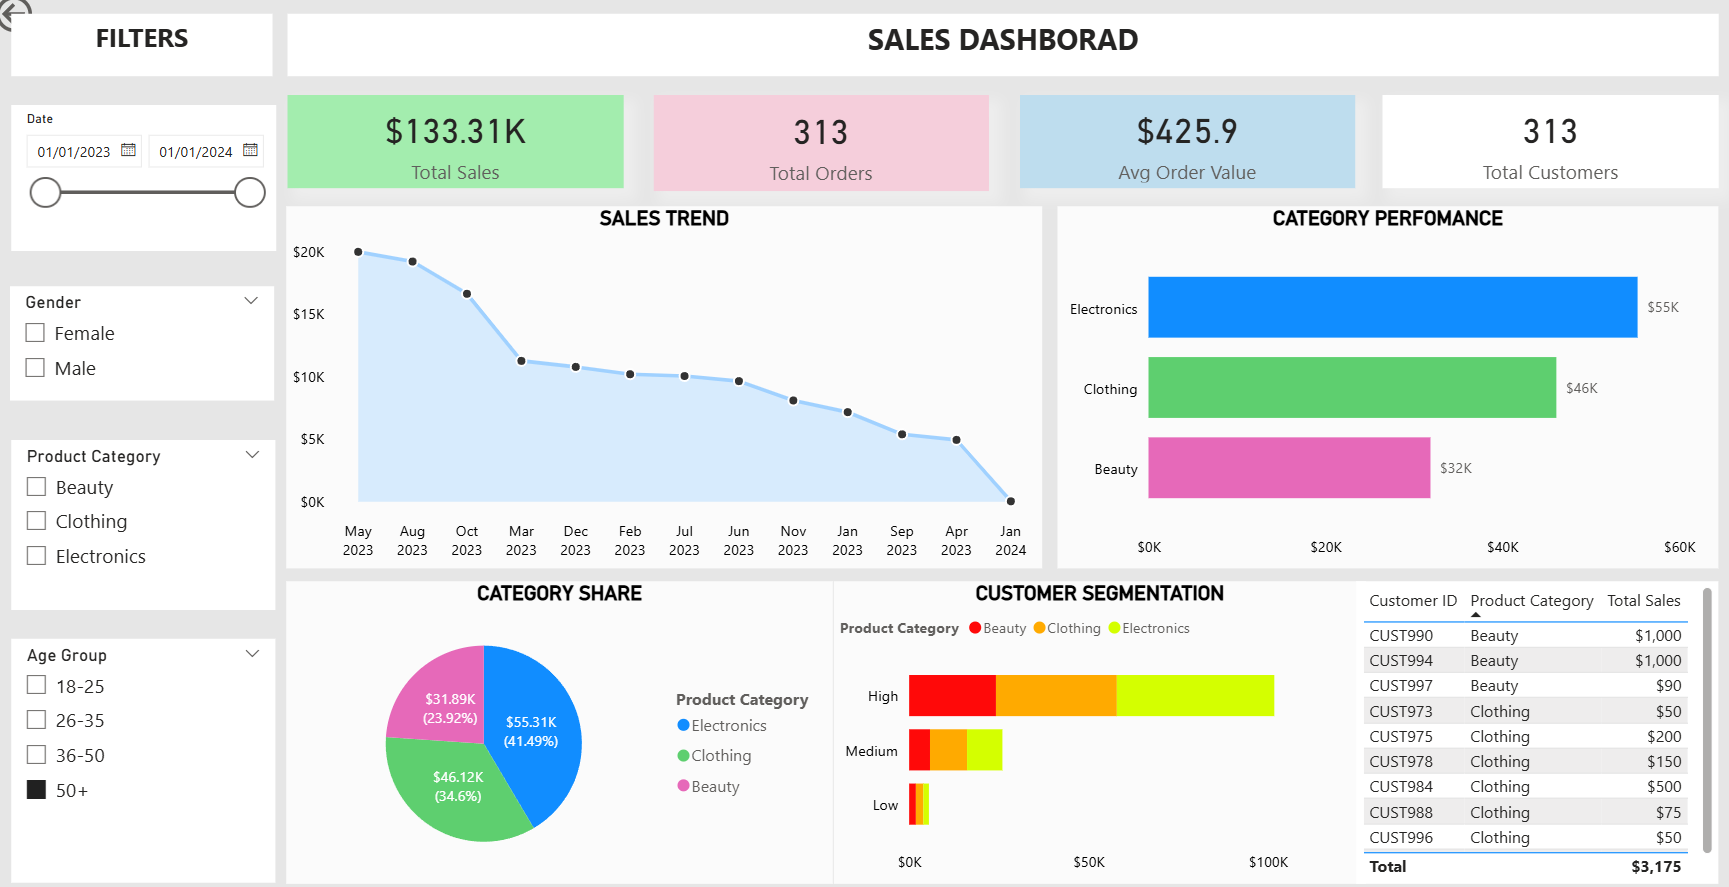

Layout of this report page (visuals, bound fields, positions):
{"tool":"powerbi","page":{"name":"SALES","canvas":[1450,750],"ordinal":0},"visuals":[{"type":"card","fields":{"Values":["SalesData.Total Sales"]},"box":[247.7,87.2,280.3,77.9],"z":0},{"type":"card","fields":{"Values":["SalesData.Total Orders"]},"box":[552.4,87.2,279.1,80.2],"z":1000},{"type":"card","fields":{"Values":["SalesData.Avg Order Value"]},"box":[858.3,87.2,279.1,77.9],"z":2000},{"type":"card","fields":{"Values":["SalesData.Total Customers"]},"box":[1159.5,87.2,280.3,77.9],"z":3000},{"type":"lineChart","title":"SALES TREND","fields":{"Category":["SalesData.MonthYear"],"Y":["SalesData.Total Sales"]},"box":[246.7,180.1,629.8,301.9],"z":4000},{"type":"clusteredBarChart","title":"CATEGORY PERFOMANCE","fields":{"Category":["SalesData.Product Category"],"Y":["SalesData.Total Sales"]},"box":[889.1,180.1,550.7,301.9],"z":5000},{"type":"pieChart","title":"CATEGORY SHARE","fields":{"Category":["SalesData.Product Category"],"Y":["SalesData.Total Sales"]},"box":[247.2,492.8,455.5,251.8],"z":6000},{"type":"barChart","title":"CUSTOMER SEGMENTATION","fields":{"Category":["SalesData.Customer Segment"],"Y":["SalesData.Total Sales"],"Series":["SalesData.Product Category"]},"box":[702.7,492.4,443.5,251.9],"z":7000},{"type":"actionButton","box":[0,0,100,40],"z":8000},{"type":"tableEx","fields":{"Values":["SalesData.Customer ID","SalesData.Product Category","SalesData.Total Sales"]},"box":[1137.9,492.4,301.9,251.9],"z":9000},{"type":"slicer","fields":{"Values":["SalesData.Gender"]},"box":[16.3,246.6,219.8,95.4],"z":10000},{"type":"slicer","fields":{"Values":["SalesData.Product Category"]},"box":[17.4,374.5,219.8,141.9],"z":11000},{"type":"slicer","fields":{"Values":["SalesData.Age Group"]},"box":[17.4,540.8,219.8,203.5],"z":11001},{"type":"slicer","fields":{"Values":["SalesData.Date"]},"box":[17.4,95.4,219.8,120.9],"z":11002},{"type":"textbox","box":[247.7,19.8,1192.1,52.3],"z":11003},{"type":"textbox","box":[17.4,19.8,217.5,52.3],"z":11004}]}

Visuals, with their boxes in screenshot pixels (x1, y1, x2, y2), scaled from the page's 1450x750 canvas onto the 1729x887 screenshot:
card - SalesData.Total Sales: BBox(295, 103, 630, 195)
card - SalesData.Total Orders: BBox(659, 103, 991, 198)
card - SalesData.Avg Order Value: BBox(1023, 103, 1356, 195)
card - SalesData.Total Customers: BBox(1383, 103, 1717, 195)
"SALES TREND" lineChart: BBox(294, 213, 1045, 570)
"CATEGORY PERFOMANCE" clusteredBarChart: BBox(1060, 213, 1717, 570)
"CATEGORY SHARE" pieChart: BBox(295, 583, 838, 881)
"CUSTOMER SEGMENTATION" barChart: BBox(838, 582, 1367, 880)
actionButton: BBox(0, 0, 119, 47)
tableEx - SalesData.Customer ID x SalesData.Product Category: BBox(1357, 582, 1717, 880)
slicer - SalesData.Gender: BBox(19, 292, 282, 404)
slicer - SalesData.Product Category: BBox(21, 443, 283, 611)
slicer - SalesData.Age Group: BBox(21, 640, 283, 880)
slicer - SalesData.Date: BBox(21, 113, 283, 256)
textbox: BBox(295, 23, 1717, 85)
textbox: BBox(21, 23, 280, 85)
